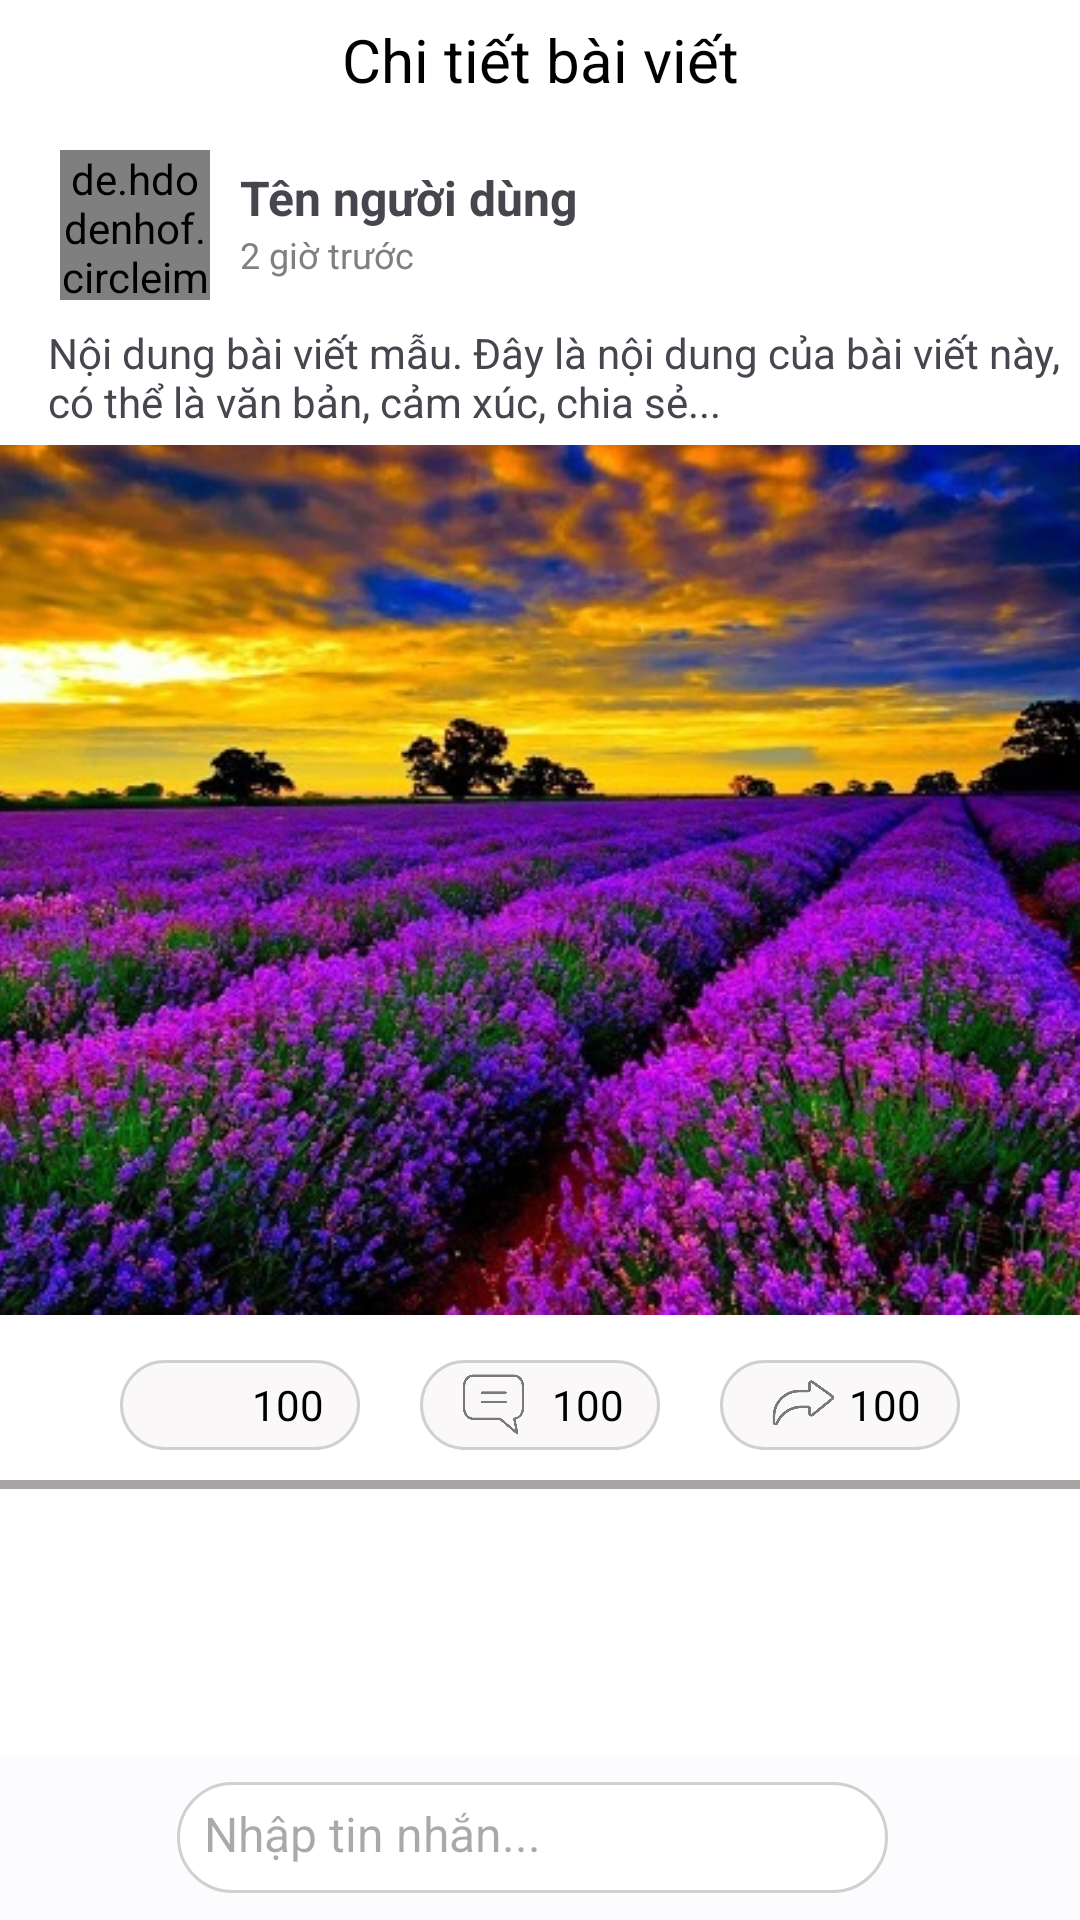

Locate icon controls on the screen. Image size 1080×1920, boxes as region(x1, y1, x2, y2).
comment: region(463, 1374, 524, 1435)
share: region(759, 1360, 849, 1450)
